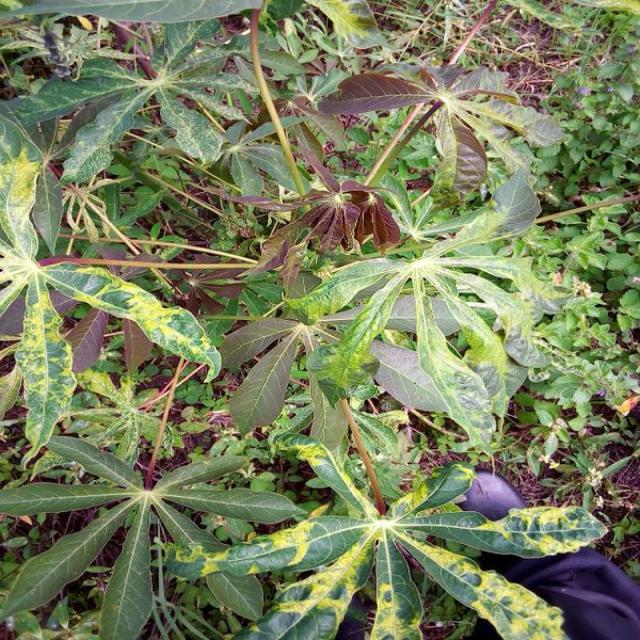cassava leaf: (2, 3, 613, 638), (162, 438, 609, 638)
